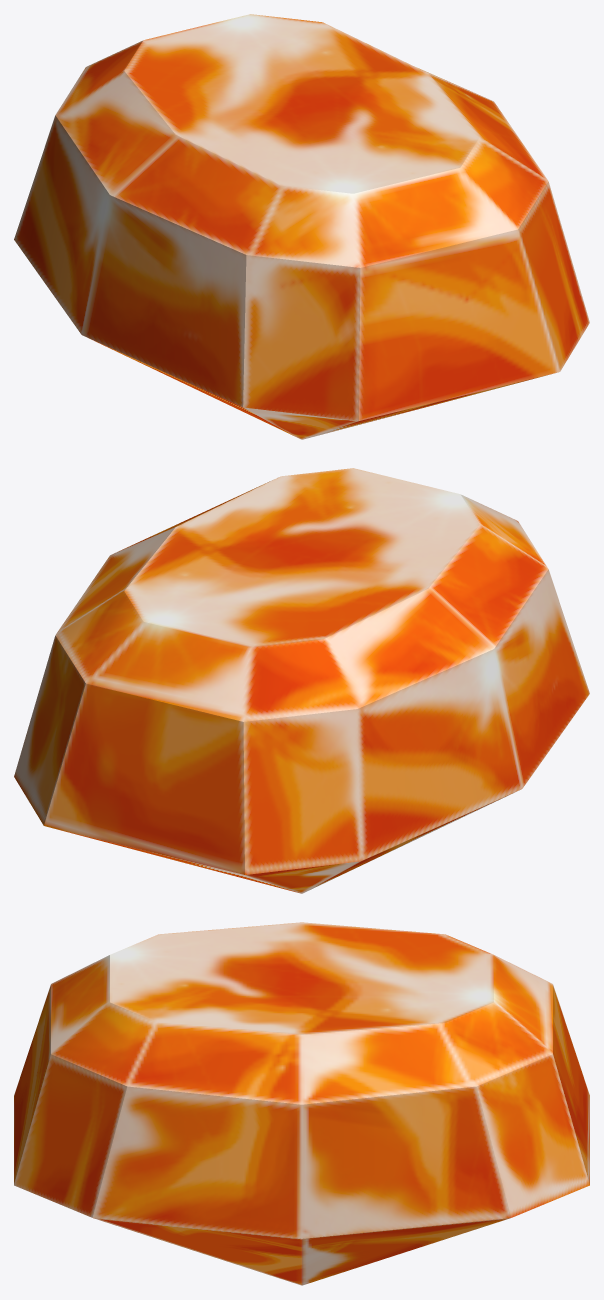
Rendered from stone_orange_005.fbx.
3 renders of one model, top to bottom at view 1: azimuth 30°, elevation 25°; view 2: azimuth 150°, elevation 25°; view 3: azimuth 270°, elevation 25°, orthographic. The views are drawn at different scales.
Parts seen in each view (by area): view 1: stone; view 2: stone; view 3: stone.
Part boxes in pixels (<box>): stone: <box>14,14,589,439</box>; stone: <box>14,468,589,893</box>; stone: <box>14,922,589,1285</box>.
Size of the model in its own units: 6.66 by 4.85 by 8.24.
